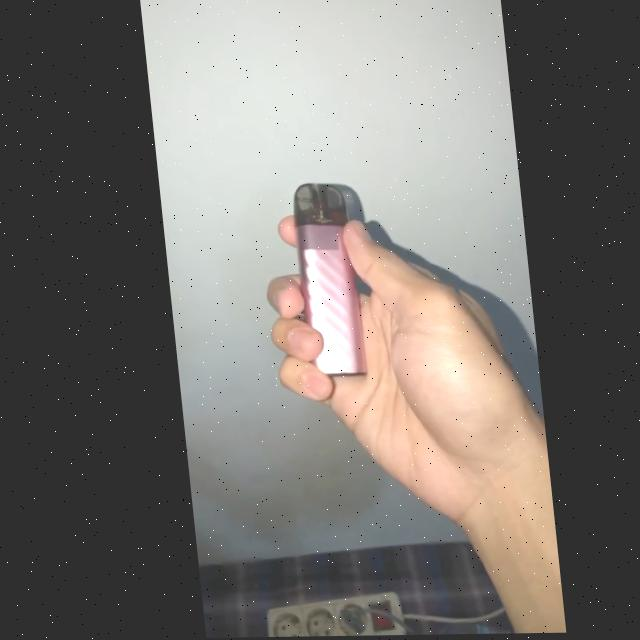vape: (285, 180, 361, 375)
